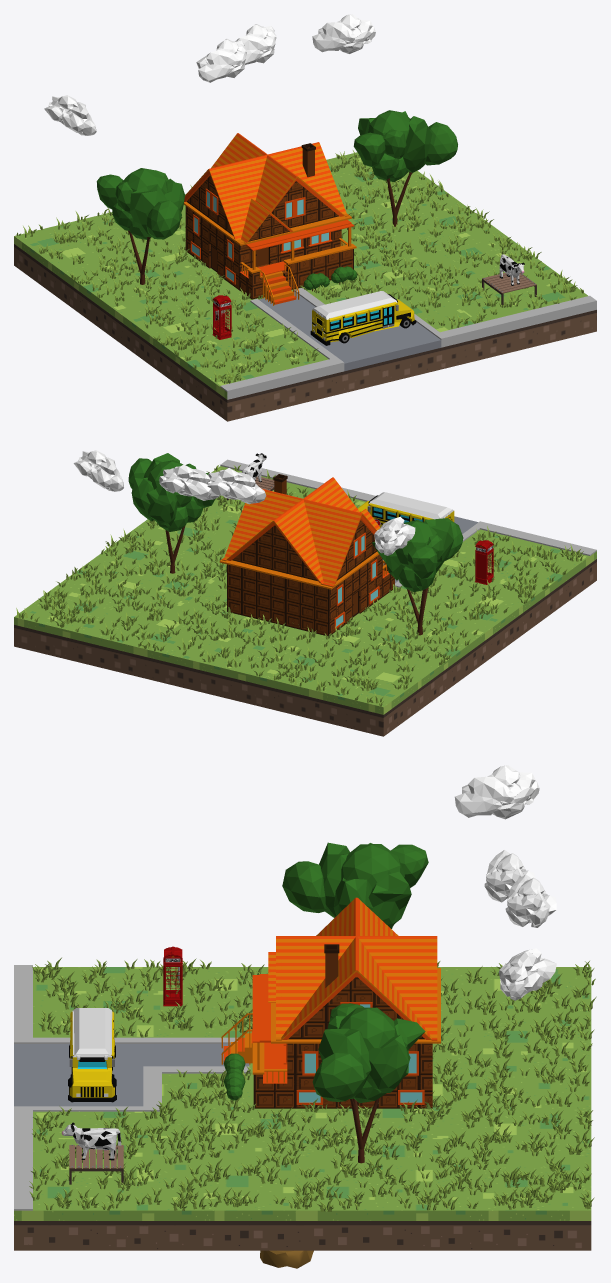
The picture shows the model from 3 angles, top to bottom: view 1: azimuth 30°, elevation 25°; view 2: azimuth 150°, elevation 25°; view 3: azimuth 270°, elevation 25°; orthographic projection. The views are drawn at different scales.
Parts seen in each view (by area): view 1: Cube.006, Cube, Circle.012_Grass_0.192, Cube.007, tree, tree.001, VEHICLES_SCHOOL_BUS, OBJRANDOM_PHONEBOOTH, Cube.009; view 2: Cube.006, Cube, Circle.012_Grass_0.192, Cube.007, tree.001, tree, VEHICLES_SCHOOL_BUS, OBJRANDOM_PHONEBOOTH; view 3: Cube.006, Circle.012_Grass_0.192, Cube, tree, Cube.007, tree.001, VEHICLES_SCHOOL_BUS, Cube.009, ANIMAL_VACA, OBJRANDOM_PHONEBOOTH, UNDERGROUND_T_REX_BONES.
Boxes of the visible parts, x1,y1,x2,y2 form: Cube.006: [14, 152, 596, 421]; Cube: [183, 133, 356, 305]; Circle.012_Grass_0.192: [16, 150, 583, 383]; Cube.007: [44, 14, 375, 135]; tree: [353, 110, 457, 226]; tree.001: [96, 168, 184, 284]; VEHICLES_SCHOOL_BUS: [310, 291, 416, 345]; OBJRANDOM_PHONEBOOTH: [212, 295, 231, 339]; Cube.009: [482, 272, 536, 304]; Cube.006: [14, 459, 596, 736]; Cube: [219, 474, 394, 636]; Circle.012_Grass_0.192: [16, 465, 583, 706]; Cube.007: [73, 450, 415, 555]; tree.001: [372, 518, 463, 635]; tree: [128, 453, 215, 573]; VEHICLES_SCHOOL_BUS: [357, 492, 454, 527]; OBJRANDOM_PHONEBOOTH: [475, 540, 494, 584]; Cube.006: [14, 965, 591, 1250]; Circle.012_Grass_0.192: [29, 957, 596, 1211]; Cube: [221, 897, 440, 1108]; tree: [312, 1003, 425, 1163]; Cube.007: [454, 765, 556, 1000]; tree.001: [282, 842, 428, 928]; VEHICLES_SCHOOL_BUS: [68, 1008, 116, 1102]; Cube.009: [69, 1144, 123, 1184]; ANIMAL_VACA: [61, 1122, 121, 1160]; OBJRANDOM_PHONEBOOTH: [163, 946, 182, 1006]; UNDERGROUND_T_REX_BONES: [260, 1250, 313, 1268].
Bounding box in the file's own units: 4071 × 2289 × 4040.
Materials: 41 (4 with a texture image).
